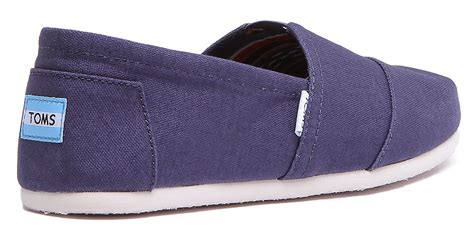nylon: (16, 20, 461, 191)
